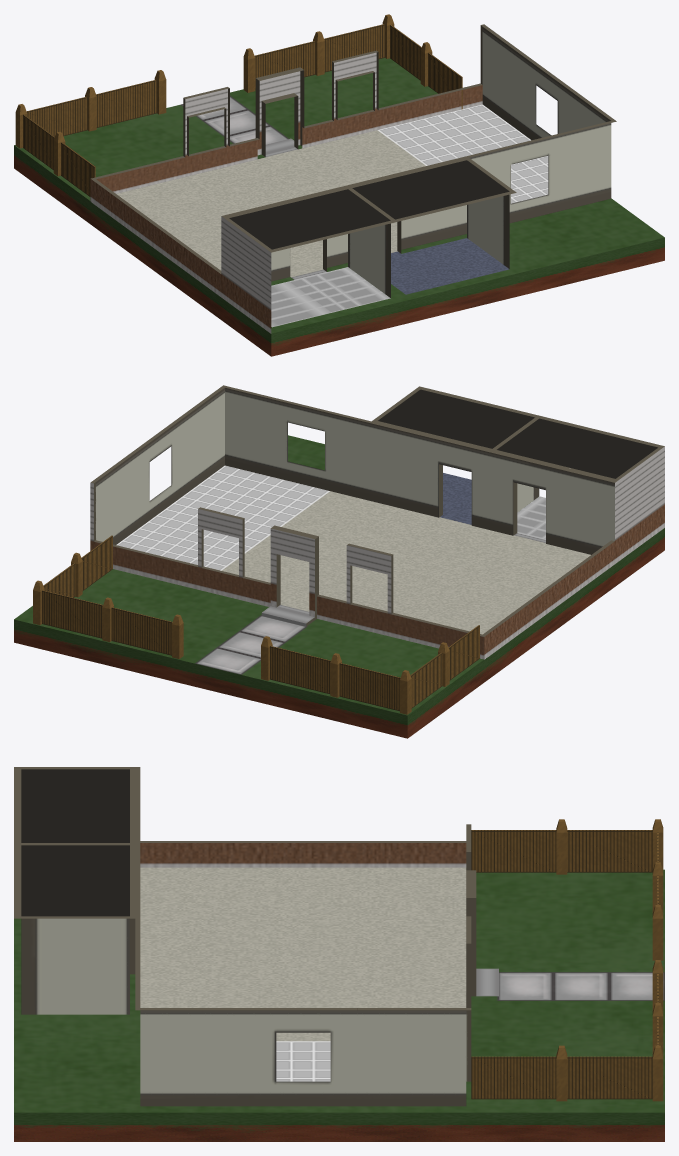
The model's file is HouseModel_Version3.fbx.
The picture shows the model from 3 angles, top to bottom: view 1: azimuth 30°, elevation 25°; view 2: azimuth 150°, elevation 25°; view 3: azimuth 270°, elevation 25°; orthographic projection. The views are drawn at different scales.
Visible parts, largest first — view 1: Floor, Walls, Fence09, Roof_Dark4; view 2: Floor, Walls, Fence09, Roof_Dark4; view 3: Floor, Walls, Fence09, Roof_Dark4.
Part boxes in pixels (x1=…): Floor: x1=14, y1=58, x2=664, y2=356; Walls: x1=90, y1=24, x2=616, y2=333; Fence09: x1=15, y1=14, x2=462, y2=196; Roof_Dark4: x1=229, y1=160, x2=509, y2=249; Floor: x1=14, y1=435, x2=664, y2=738; Walls: x1=90, y1=385, x2=664, y2=659; Fence09: x1=33, y1=535, x2=479, y2=714; Roof_Dark4: x1=378, y1=389, x2=657, y2=478; Floor: x1=14, y1=867, x2=664, y2=1141; Walls: x1=14, y1=767, x2=476, y2=1106; Fence09: x1=471, y1=819, x2=663, y2=1101; Roof_Dark4: x1=21, y1=769, x2=129, y2=916.
Size of the model in its own units: 424 by 107 by 480.
